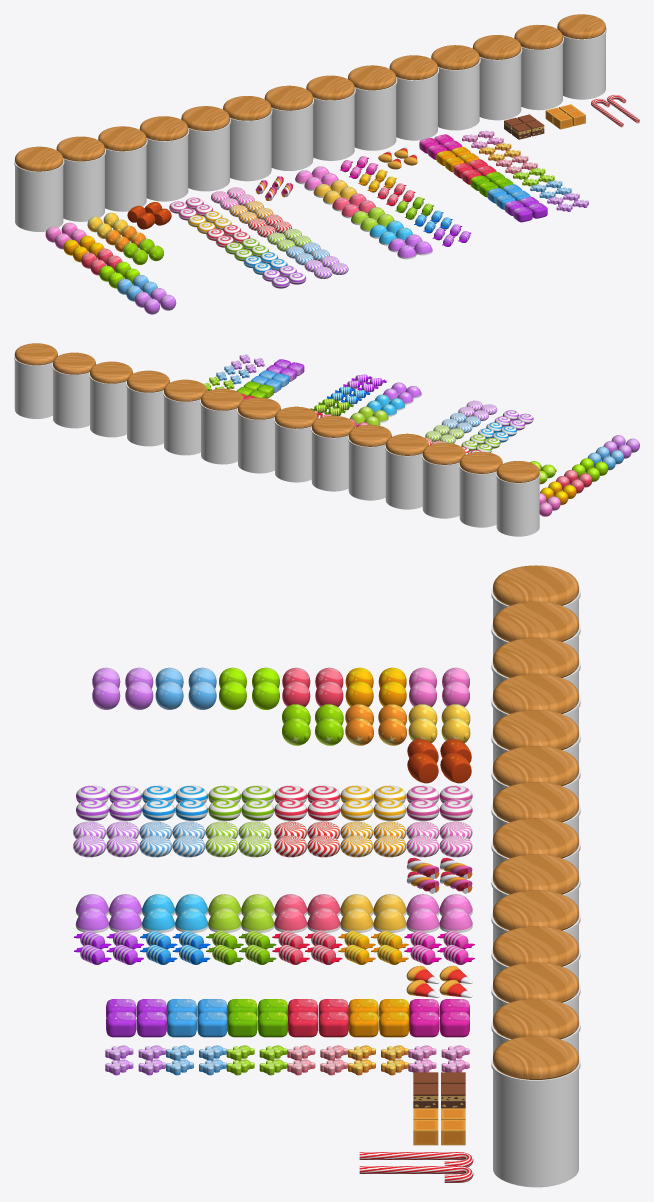
The model's file is maya2sketchfab.fbx.
3 views of the same model, one above another, from view 1: azimuth 30°, elevation 25°; view 2: azimuth 150°, elevation 25°; view 3: azimuth 270°, elevation 25° (orthographic). The views are drawn at different scales.
Visible parts, largest first — view 1: Candy_Jar (×14), Lid (×14), Caramel, Fudge, Line_Drop, Lemon_Drop, Orange_Drop, Peppermint_Candy_Cane; view 2: Candy_Jar (×14), Lid (×14); view 3: Lid (×14), Candy_Jar, Peppermint_Candy_Cane, Line_Drop, Orange_Drop, Caramel, Lemon_Drop, Fudge.
Part boxes in pixels (x1=…): Candy_Jar (×14): x1=14, y1=27, x2=606, y2=231; Lid (×14): x1=15, y1=14, x2=605, y2=171; Caramel: x1=545, y1=104, x2=585, y2=129; Fudge: x1=504, y1=114, x2=544, y2=139; Line_Drop: x1=123, y1=238, x2=163, y2=264; Lemon_Drop: x1=87, y1=212, x2=128, y2=238; Orange_Drop: x1=105, y1=225, x2=145, y2=251; Peppermint_Candy_Cane: x1=591, y1=94, x2=639, y2=127; Candy_Jar (×14): x1=14, y1=354, x2=540, y2=536; Lid (×14): x1=14, y1=343, x2=539, y2=482; Lid (×14): x1=493, y1=565, x2=578, y2=1079; Candy_Jar: x1=491, y1=1057, x2=580, y2=1187; Peppermint_Candy_Cane: x1=359, y1=1152, x2=473, y2=1182; Line_Drop: x1=282, y1=704, x2=343, y2=745; Orange_Drop: x1=345, y1=704, x2=406, y2=745; Caramel: x1=413, y1=1108, x2=465, y2=1145; Lemon_Drop: x1=408, y1=704, x2=470, y2=743; Fudge: x1=413, y1=1072, x2=465, y2=1108.
Size of the model in its own units: 437 by 48.1 by 184.
Materials: 53 (53 with a texture image).
